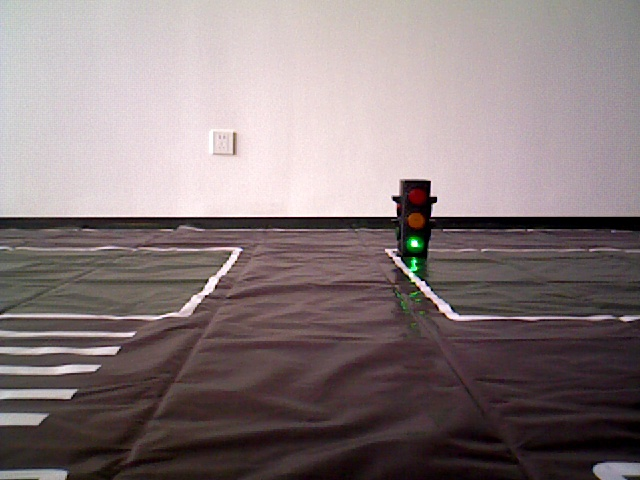green: (396, 181, 431, 256)
